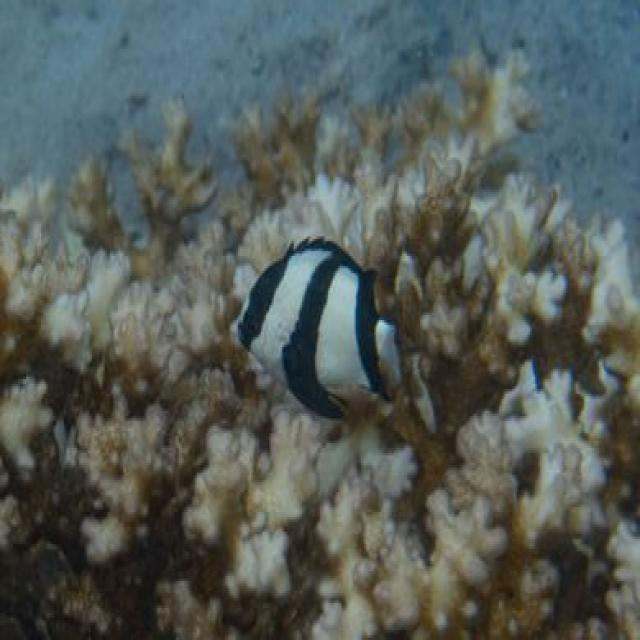ThreeStripedDamselfish: (235, 239, 399, 421)
